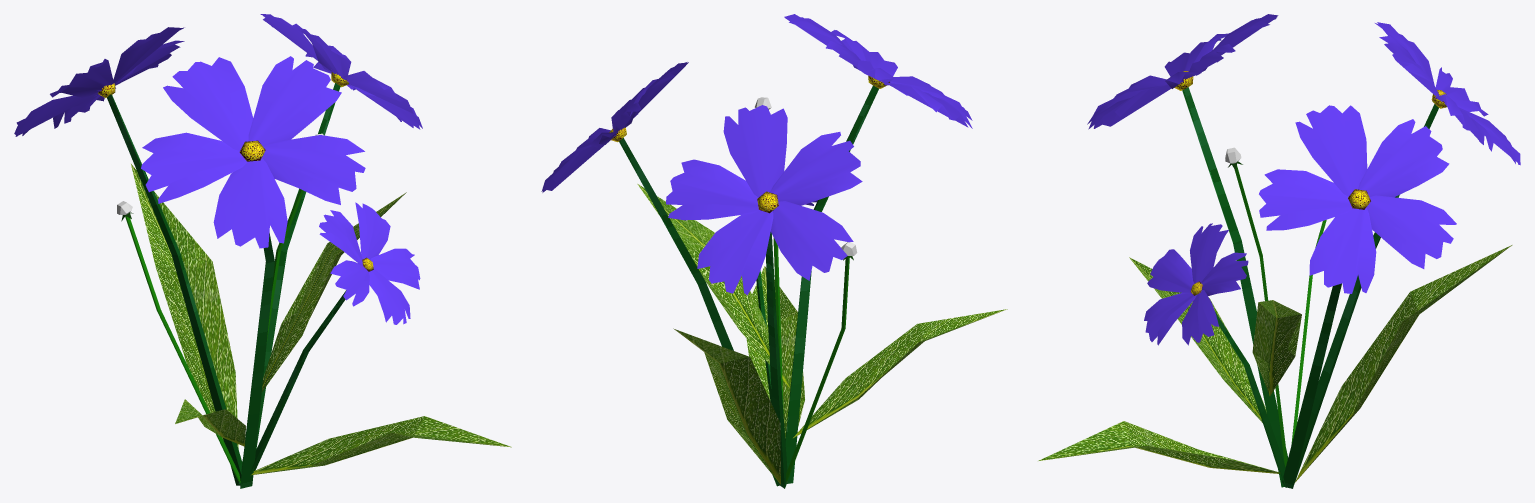
Rendered from flower_blue.glb.
The picture shows the model from 3 angles, left to right: view 1: azimuth 30°, elevation 25°; view 2: azimuth 150°, elevation 25°; view 3: azimuth 270°, elevation 25°; orthographic projection.
Visible parts, largest first — view 1: Circle.015; view 2: Circle.015; view 3: Circle.015.
Part boxes in pixels (x1=…): Circle.015: x1=14, y1=14, x2=511, y2=488; Circle.015: x1=541, y1=14, x2=1007, y2=488; Circle.015: x1=1038, y1=14, x2=1520, y2=488.
Size of the model in its own units: 1.44 by 1.77 by 1.74.
7 materials, 3 textured.
